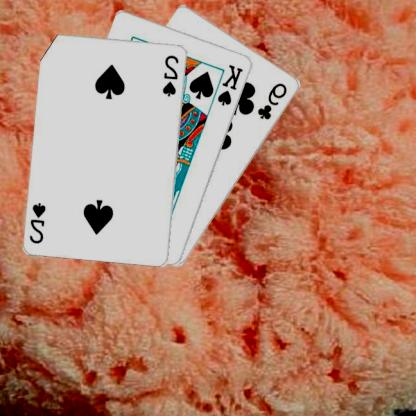2S: (162, 52, 182, 98), (29, 199, 49, 245)
9C: (257, 80, 291, 121)
KS: (216, 62, 246, 107)
